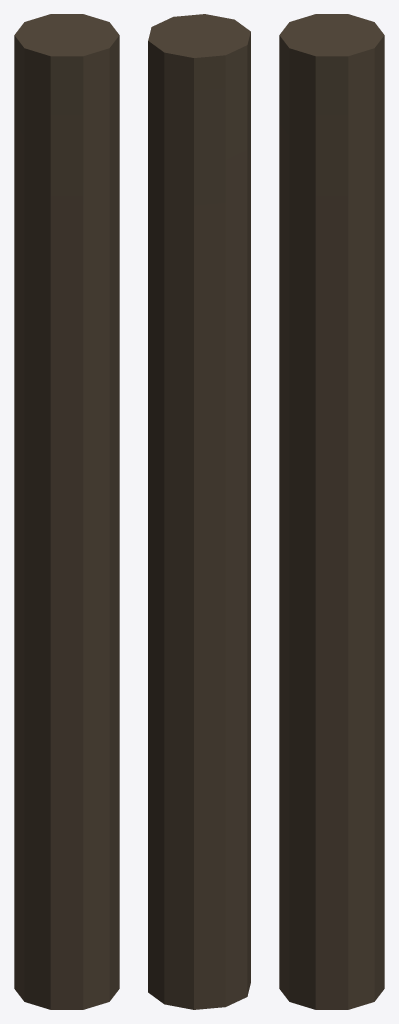
The model's file is ColumnWood4_1.fbx.
The picture shows the model from 3 angles, left to right: view 1: azimuth 90°, elevation 25°; view 2: azimuth 210°, elevation 25°; view 3: azimuth 270°, elevation 25°; orthographic projection.
Visible parts, largest first — view 1: Column.008; view 2: Column.008; view 3: Column.008.
Part boxes in pixels (x1,y1,x2,y2): Column.008: (14,14,119,1009); Column.008: (148,14,250,1009); Column.008: (279,14,384,1009).
Bounding box in the file's own units: 13.08 × 138 × 13.75.
